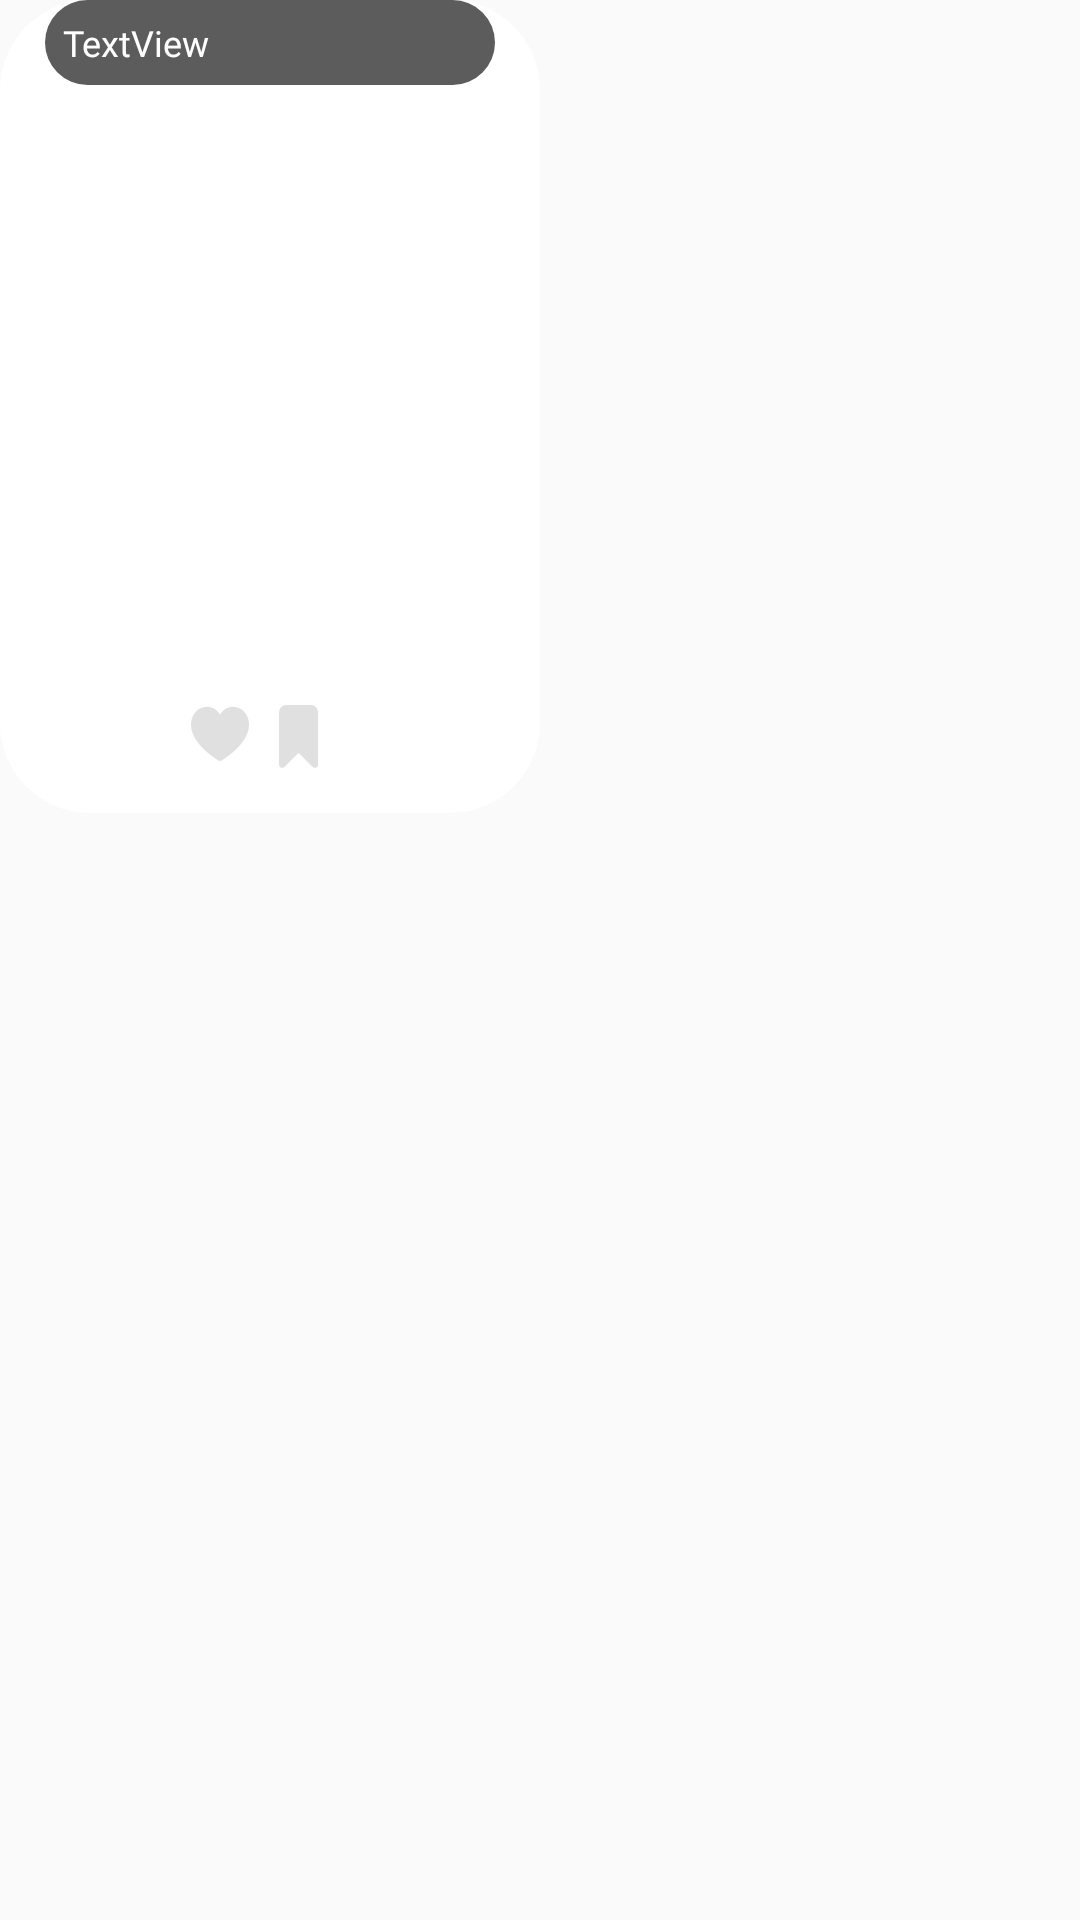

Named icons in this screenshot (1080 x 1920) and their centers, point (x, y):
like: point (220, 734)
save: point (298, 736)
